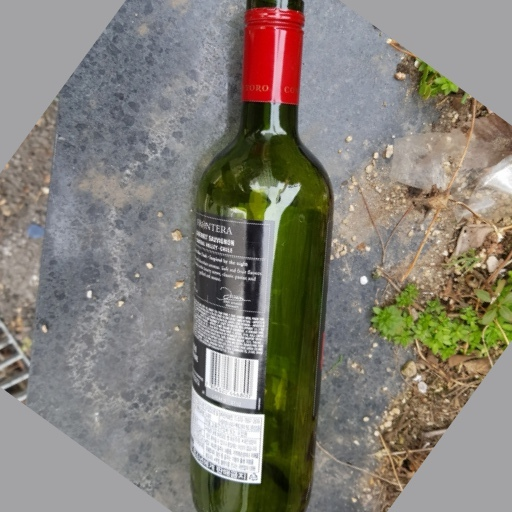Glass_2: (193, 1, 339, 512)
